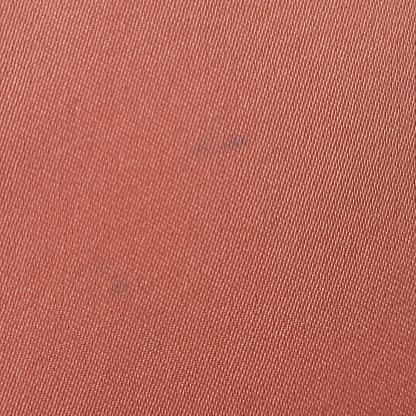spot: (183, 122, 267, 171), (89, 274, 143, 306)
